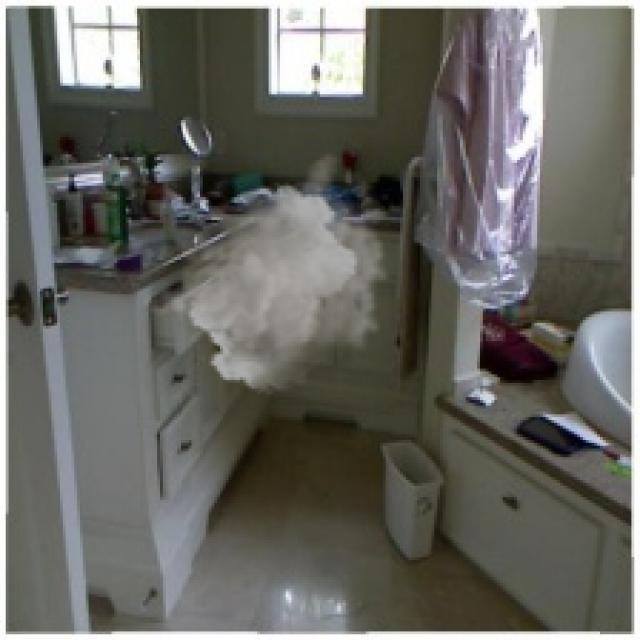Smoke: (140, 152, 392, 394)
